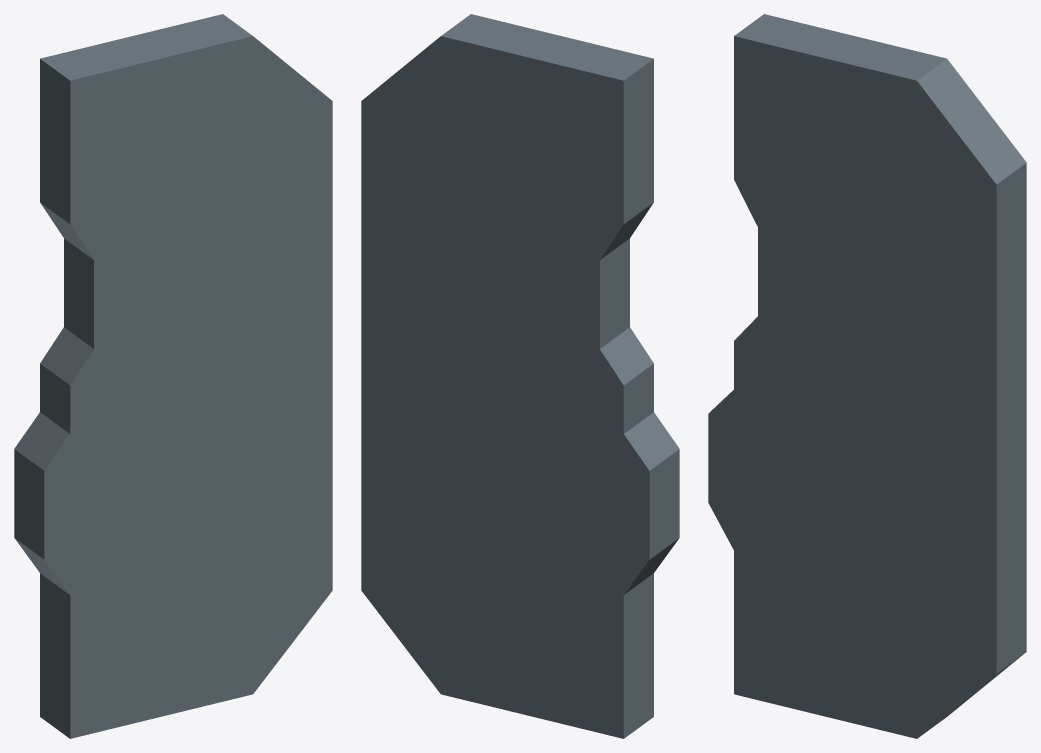
File: Door1.fbx
3 views of the same model, side by side, from view 1: azimuth 30°, elevation 25°; view 2: azimuth 150°, elevation 25°; view 3: azimuth 330°, elevation 25° (orthographic).
Visible parts, largest first — view 1: Door1; view 2: Door1; view 3: Door1.
Boxes of the visible parts, x1,y1,x2,y2 form: Door1: (14, 14, 332, 738); Door1: (361, 14, 679, 738); Door1: (708, 14, 1026, 738).
Size of the model in its own units: 138 by 300 by 24.94.
